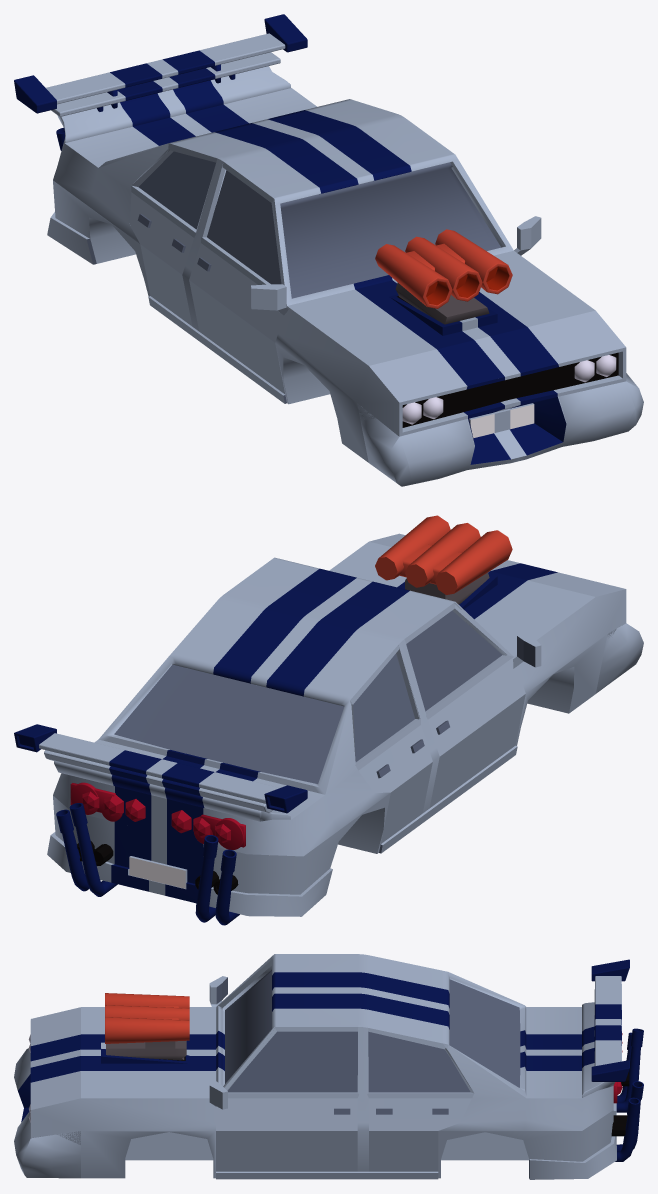
File: newCar1.fbx
The picture shows the model from 3 angles, top to bottom: view 1: azimuth 30°, elevation 25°; view 2: azimuth 150°, elevation 25°; view 3: azimuth 270°, elevation 25°; orthographic projection. The views are drawn at different scales.
Parts seen in each view (by area): view 1: Carcas, Doors1, Engine3, Engine1, Bumper3, spoiler3.001, spoiler1.001, Bumper2, spoiler2.001, Doors3, Engine2; view 2: Carcas, Doors1, Bumper2, Engine3, Bumper3, spoiler3.001, Engine1, spoiler1.001, Doors3, spoiler2.001, Lighting1.001, Lighting3 (+1 smaller); view 3: Carcas, Doors1, Engine3, Engine1, Bumper2, Bumper3, Doors3, spoiler3.001, spoiler1.001, Engine2.
Part boxes in pixels (box(x1,y1,x2,y2)): Carcas: box(53, 88, 626, 462); Doors1: box(129, 143, 541, 392); Engine3: box(314, 229, 625, 402); Engine1: box(287, 250, 617, 402); Bumper3: box(56, 127, 643, 486); spoiler3.001: box(14, 14, 307, 113); spoiler1.001: box(57, 66, 290, 142); Bumper2: box(47, 180, 566, 445); spoiler2.001: box(51, 52, 280, 116); Doors3: box(141, 245, 286, 403); Engine2: box(356, 281, 513, 348); Carcas: box(53, 557, 626, 856); Doors1: box(114, 602, 541, 843); Bumper2: box(47, 625, 622, 916); Engine3: box(330, 515, 625, 624); Bumper3: box(56, 623, 643, 925); spoiler3.001: box(14, 724, 307, 813); Engine1: box(329, 534, 581, 656); spoiler1.001: box(54, 761, 290, 821); Doors3: box(379, 695, 524, 853); spoiler2.001: box(44, 750, 272, 813); Lighting1.001: box(82, 791, 230, 842); Lighting3: box(70, 782, 243, 849); Carcas: box(28, 954, 613, 1178); Doors1: box(209, 966, 520, 1171); Engine3: box(30, 993, 189, 1109); Engine1: box(31, 1007, 215, 1109); Bumper2: box(18, 1072, 629, 1179); Bumper3: box(14, 1028, 643, 1178); Doors3: box(216, 1131, 438, 1179); spoiler3.001: box(591, 959, 629, 1081); spoiler1.001: box(582, 1002, 614, 1097); Engine2: box(81, 1034, 215, 1070).
Size of the model in its own units: 2.81 by 1.61 by 6.42.
Materials: 10 (1 with a texture image).
